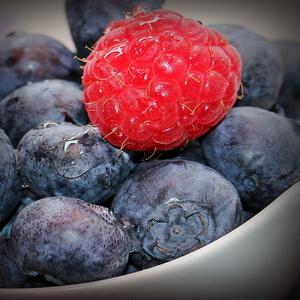raspb: (81, 1, 240, 156)
